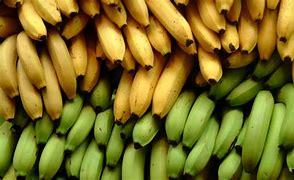banana: (0, 0, 294, 180), (0, 0, 294, 118), (0, 90, 294, 180)
